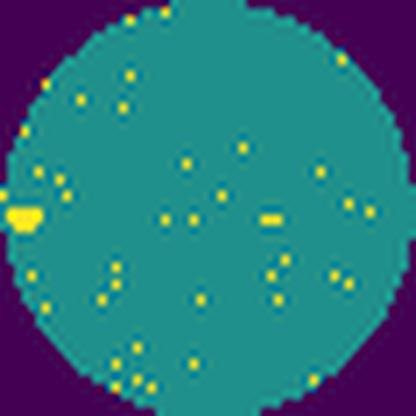Loc: (3, 204, 48, 236)
